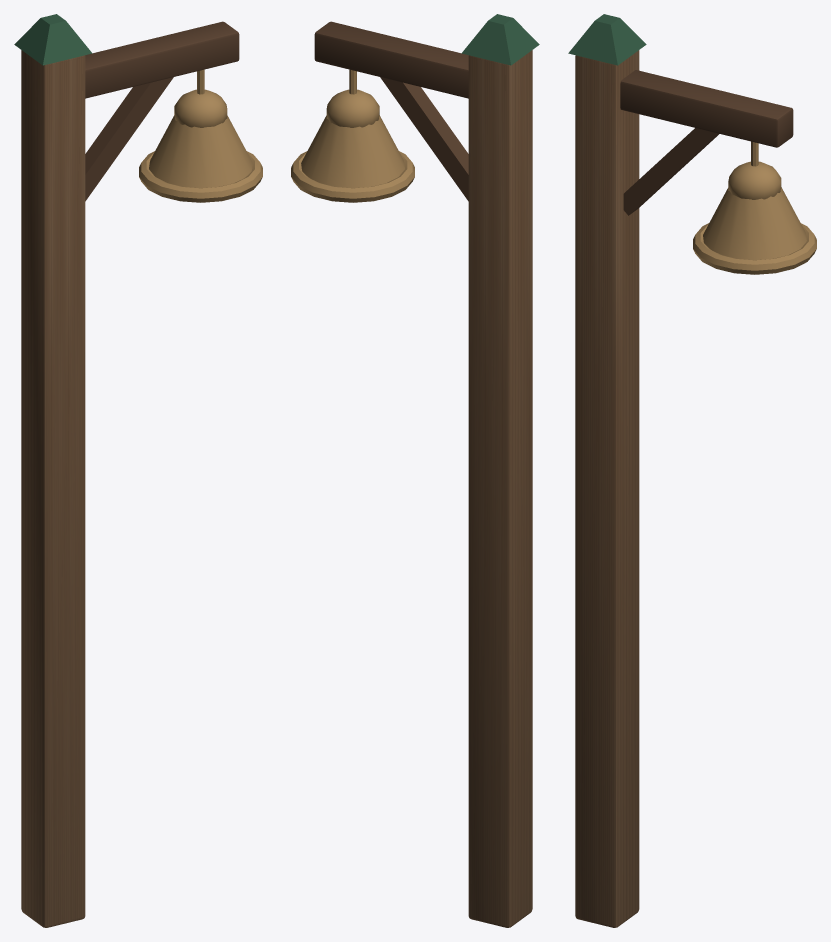
File: bell_post.glb
3 views of the same model, side by side, from view 1: azimuth 30°, elevation 25°; view 2: azimuth 150°, elevation 25°; view 3: azimuth 330°, elevation 25° (orthographic).
Parts seen in each view (by area): view 1: bell_post_body; view 2: bell_post_body; view 3: bell_post_body.
Boxes of the visible parts, left/top/right/bottom form: bell_post_body: left=14, top=14, right=262, bottom=927; bell_post_body: left=291, top=14, right=539, bottom=927; bell_post_body: left=568, top=14, right=816, bottom=927.
Size of the model in its own units: 0.3998 by 1.51 by 0.1891.
Materials: 5 (1 with a texture image).
